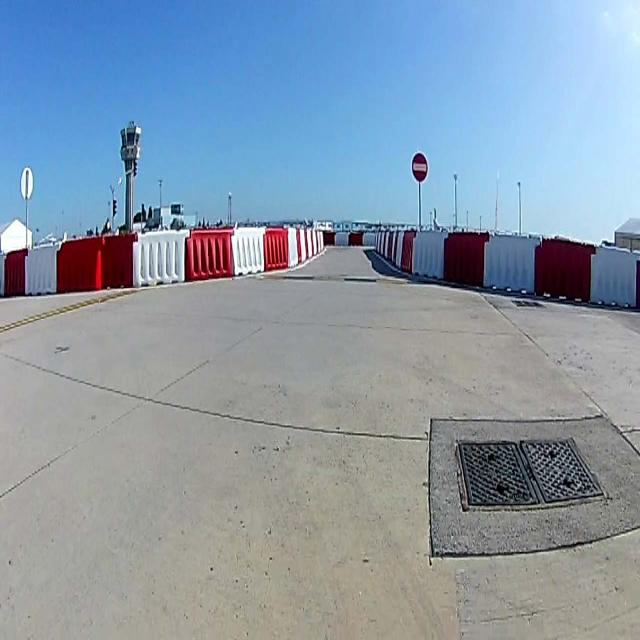girisyok: (411, 150, 427, 182)
